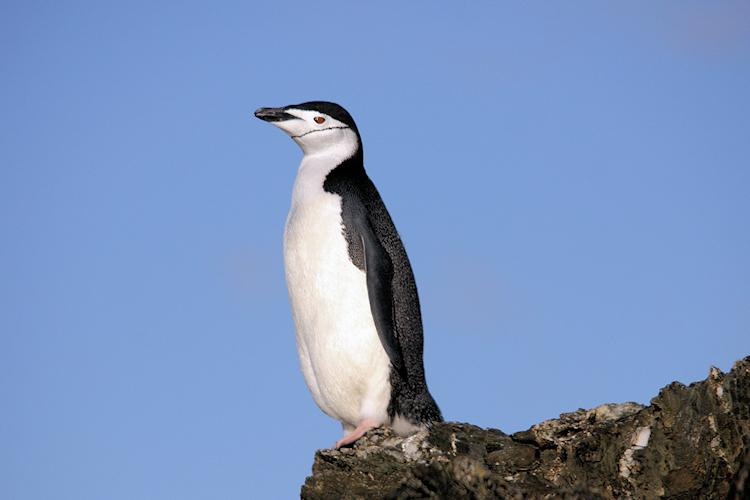chinstrap: (208, 71, 468, 479)
